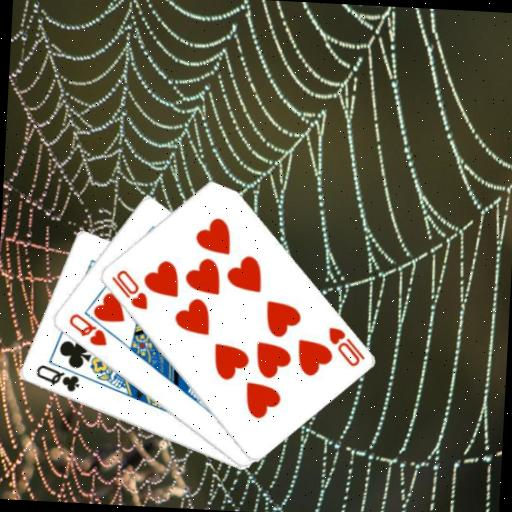10H: (323, 324, 368, 370), (107, 266, 151, 312)
QC: (32, 361, 83, 394)
QH: (64, 310, 110, 349)
